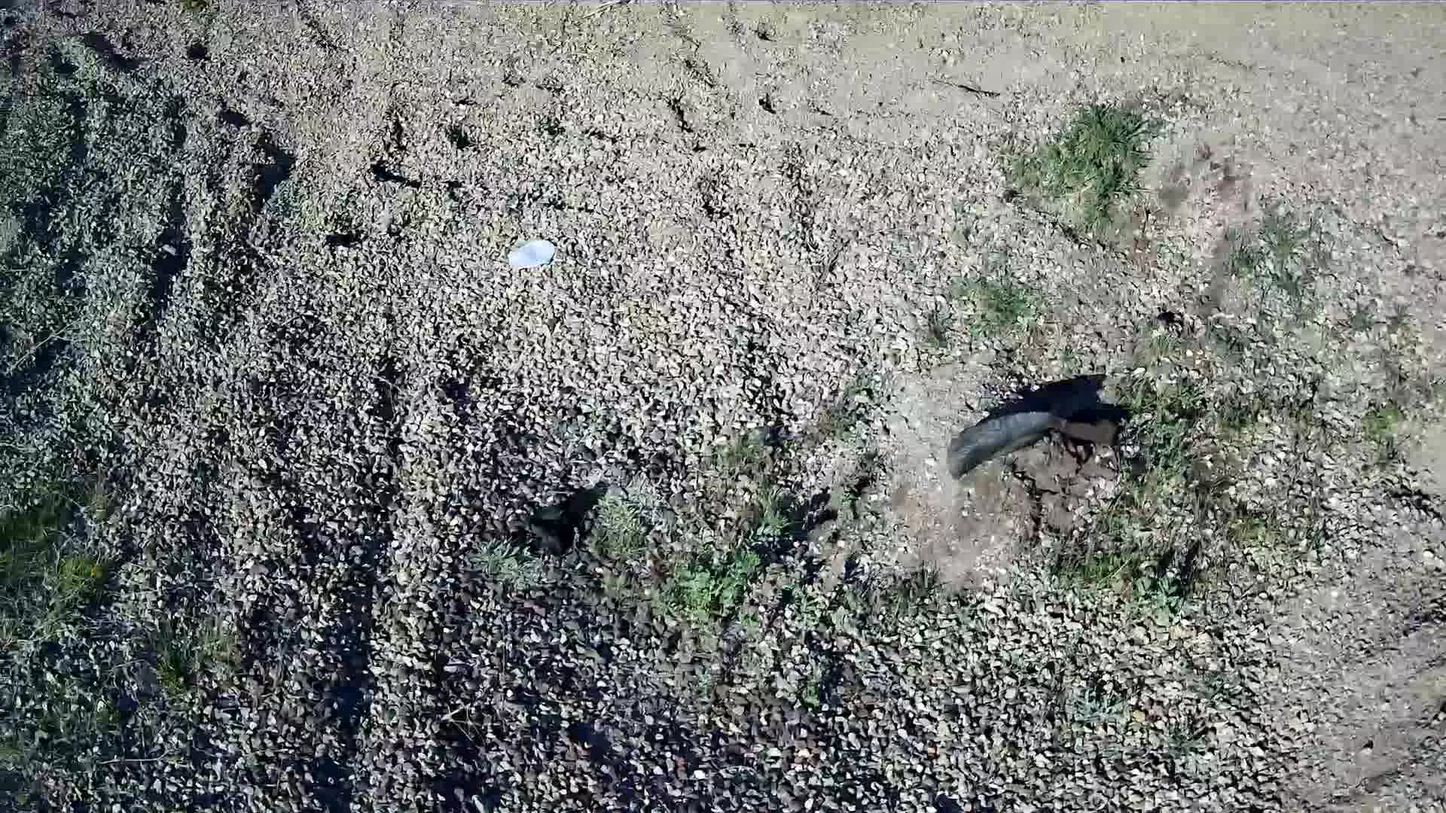Target: (507, 239, 555, 269)
